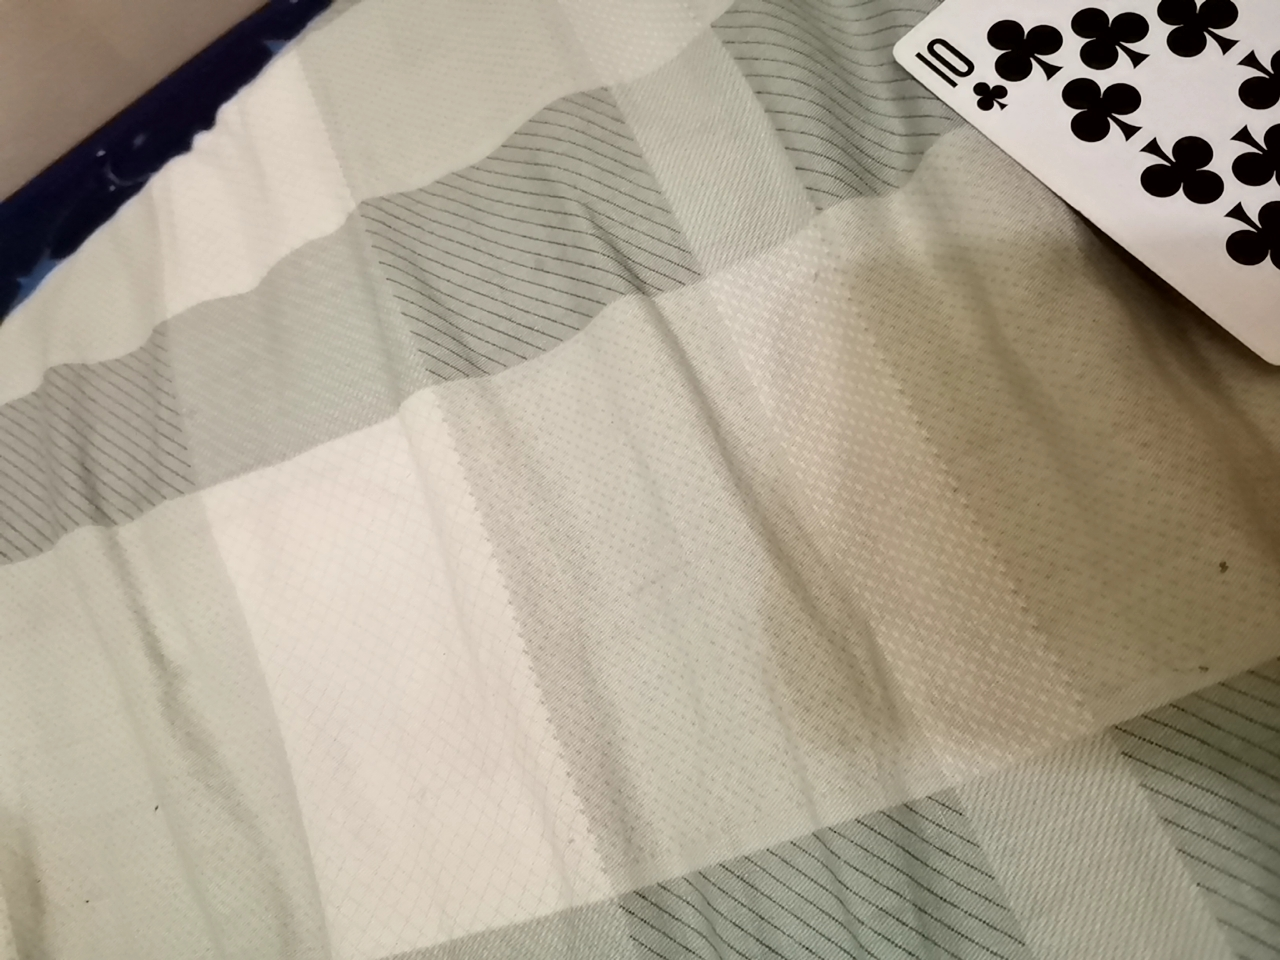mh 10: (884, 0, 1274, 433)
